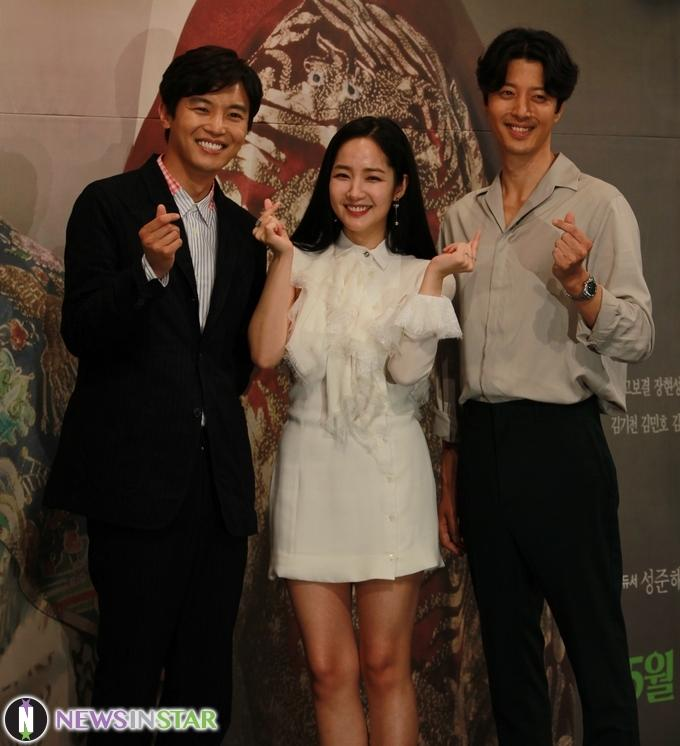heart gesture: (152, 200, 182, 223), (551, 210, 578, 234), (262, 196, 283, 213)
